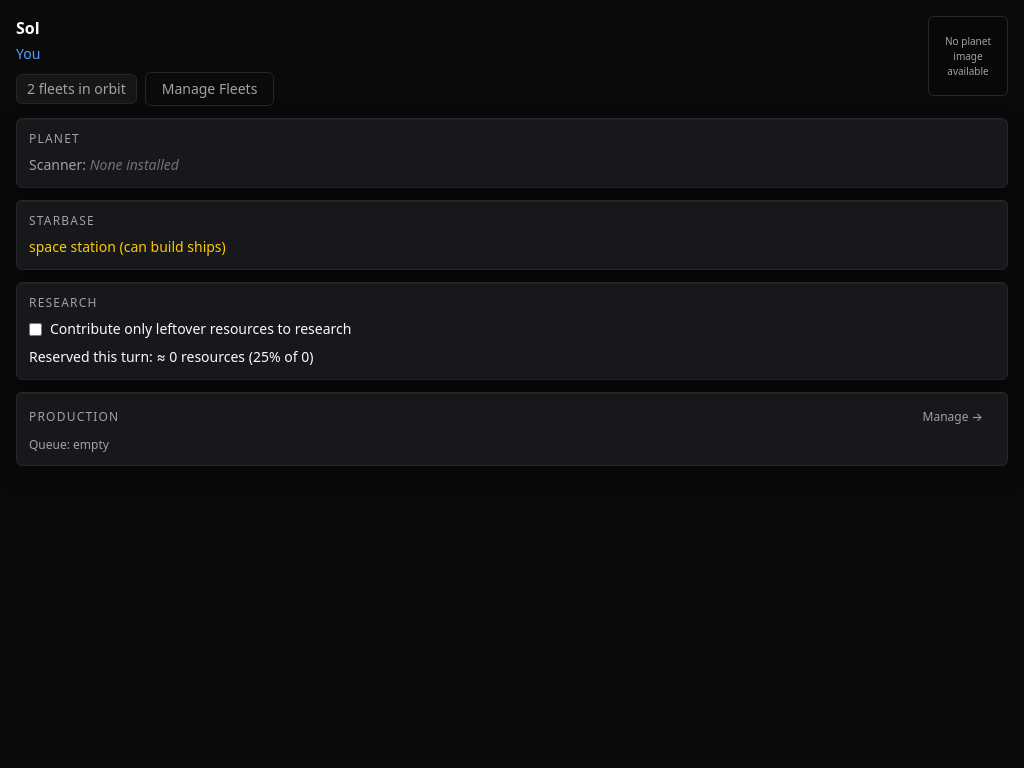
Scenario: PlanetDetail › opens Fleet Composer as a dialog overlay from orbit controls
Click the button "Manage Fleets": (210, 89) [145,72,274,106]
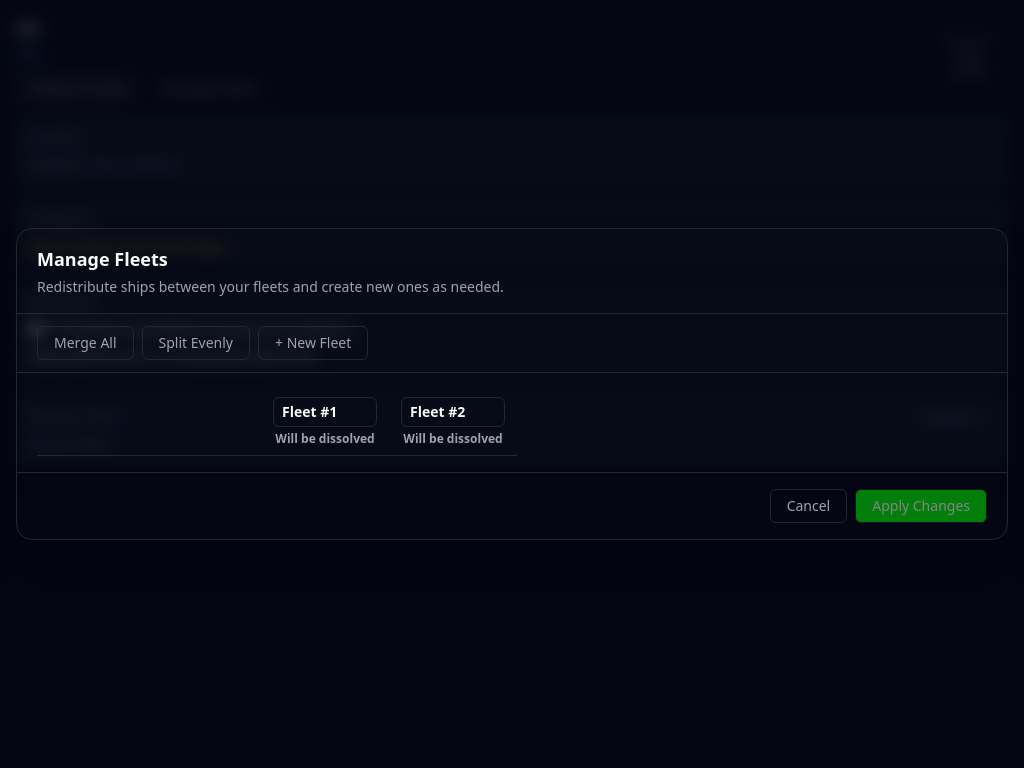
Check: the dialog named "Fleet Composer" is shown, box [16,228,1008,540]
